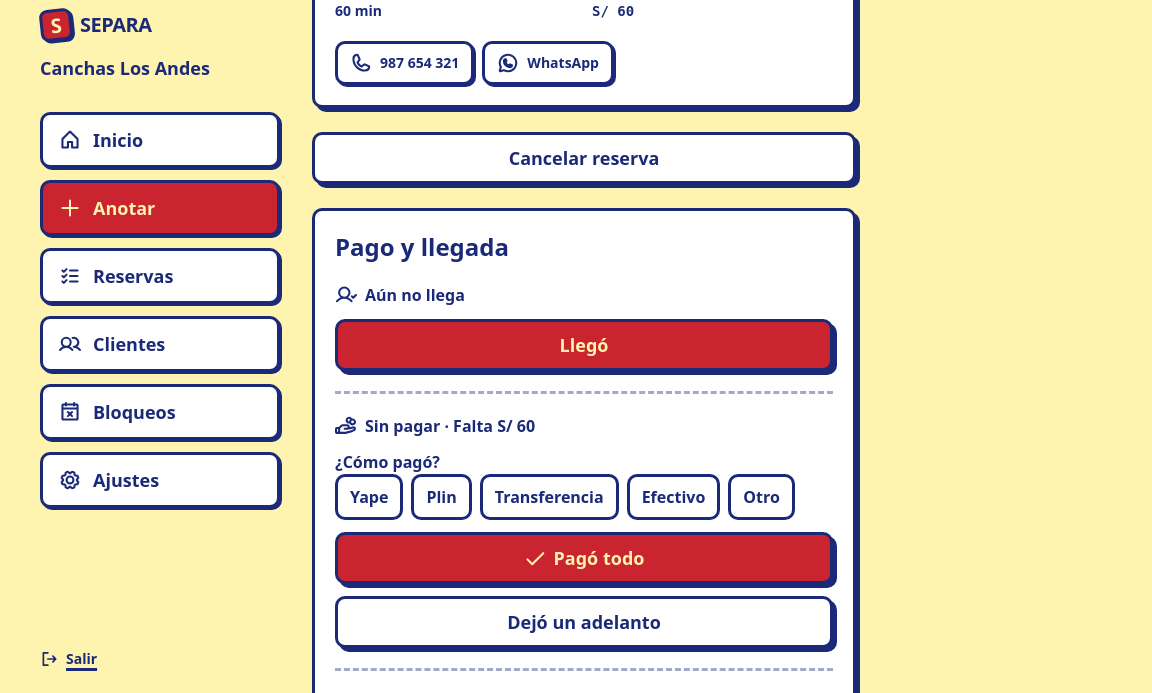
Scenario: arrival › marks that the customer arrived
This screenshot has width=1152, height=693.
(page scrolled)
Click the button "Llegó" at (584, 345), box [335,319,833,371]
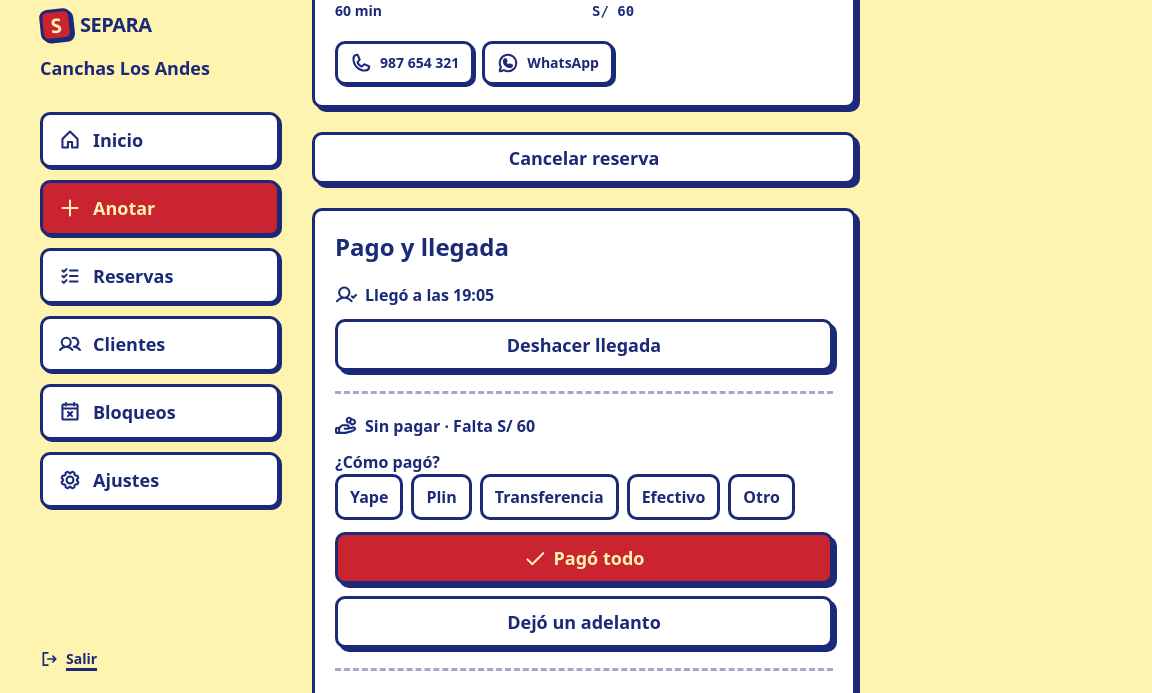
Check: the text "Llegó a las 19:05" is shown, box [335,284,494,306]
Check: the button "Deshacer llegada" is shown, box [335,319,833,371]
